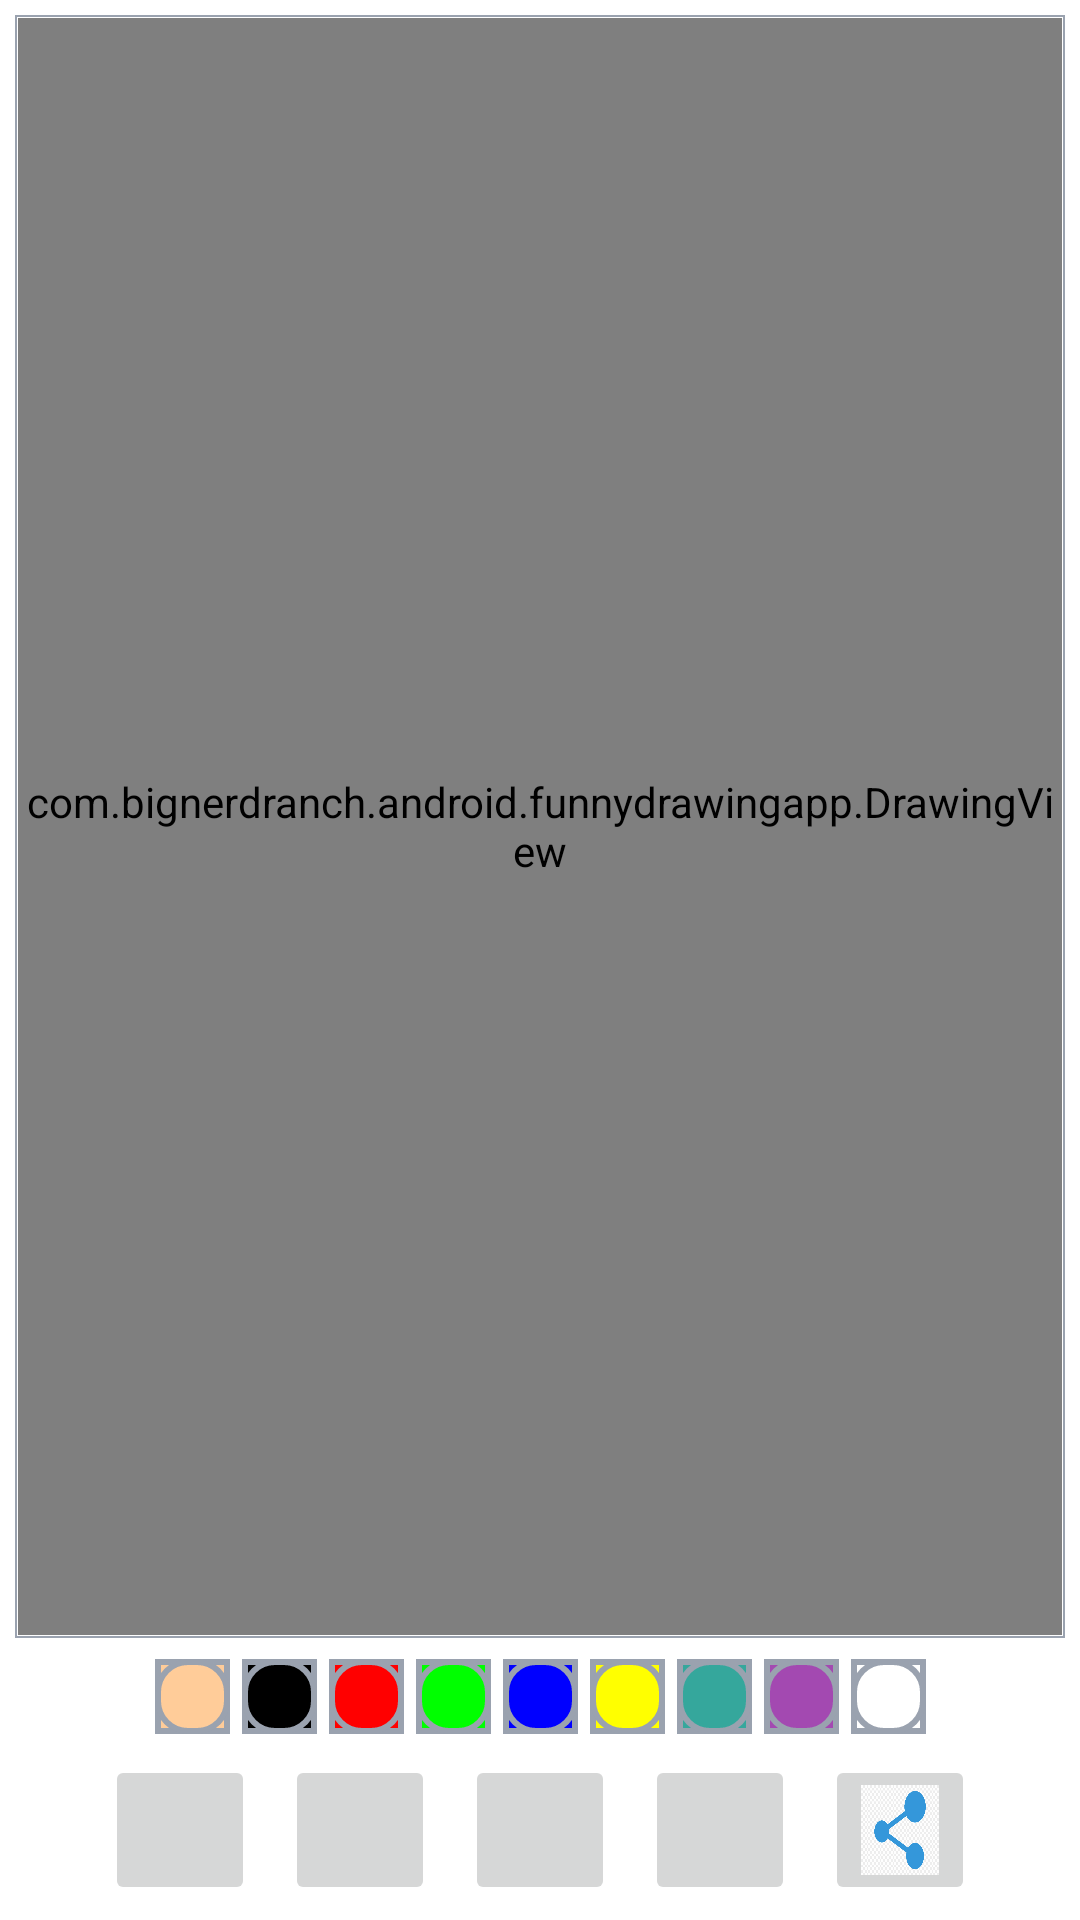

Icons on this 1080 x 1920 Android screen, each with the point to tap as (x=x, y=y):
share button: (x=900, y=1830)
